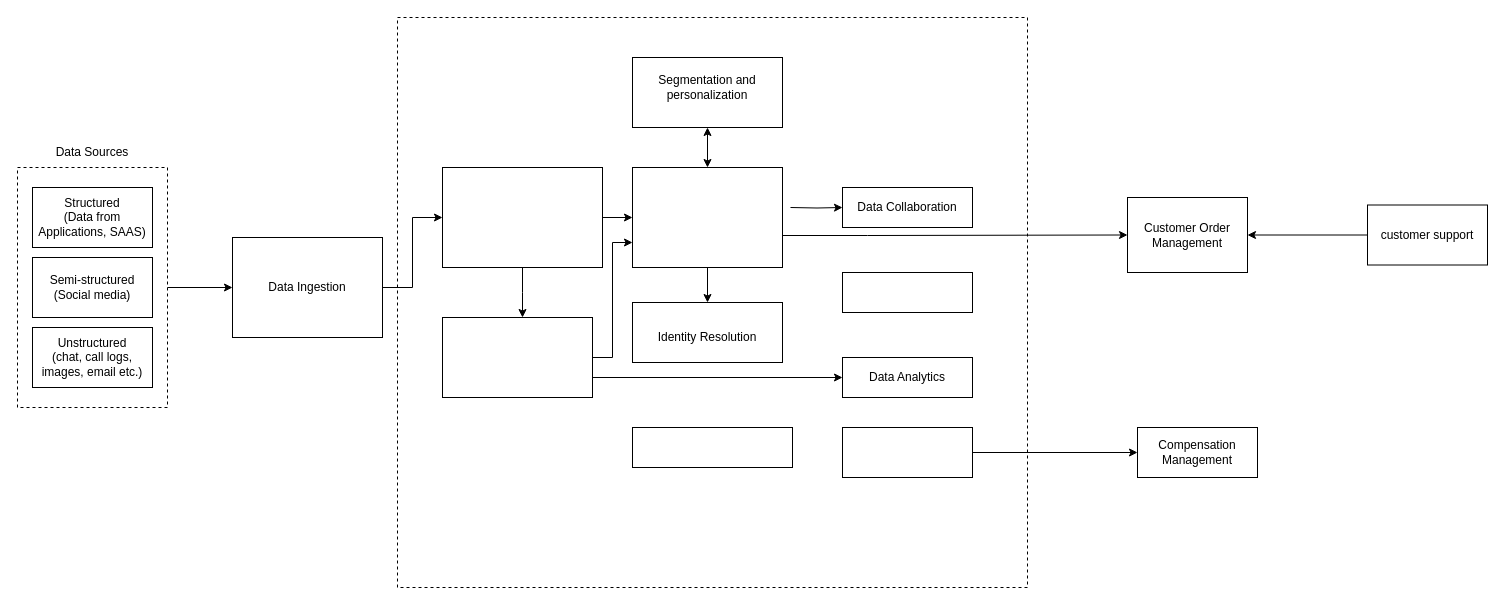
Some shapes in this 1505 by 605 pixel diagram are drawn without their labels. The shapes that lost their labels are listed below. From the top down, each one's centre as x and y in pixels, then its label:
At point (522, 217): "Speed Layer".
At point (707, 217): "Serving Layer".
At point (907, 292): "Customer Privacy and concent Mgmt".
At point (517, 357): "Batch Layer".
At point (712, 447): "Data Governance".
At point (907, 452): "Machine Learning Next Best Action".
